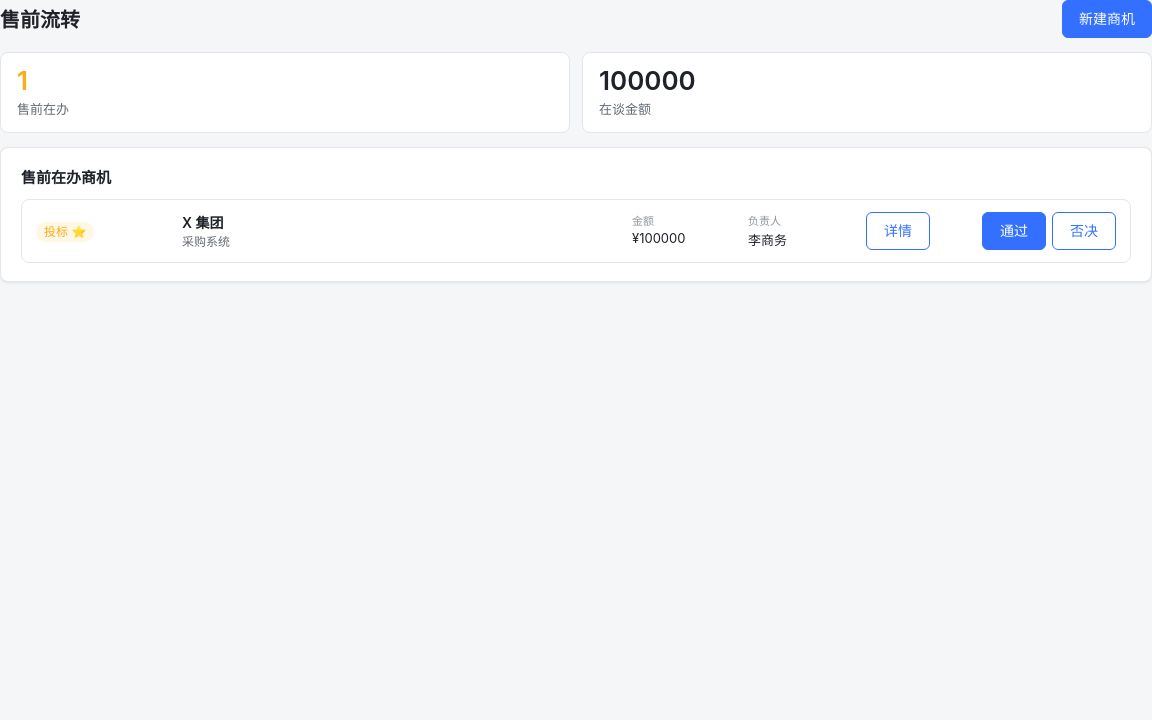
Test: PresaleFlow (售前流转 operations) › BIDDING 否决 confirms 丢单 without a supplement form (TC-FCAR-02)
The width and height of the screenshot is (1152, 720).
Click the button with test id "presale-reject-7" at (1084, 231), box [1052,212,1116,250]
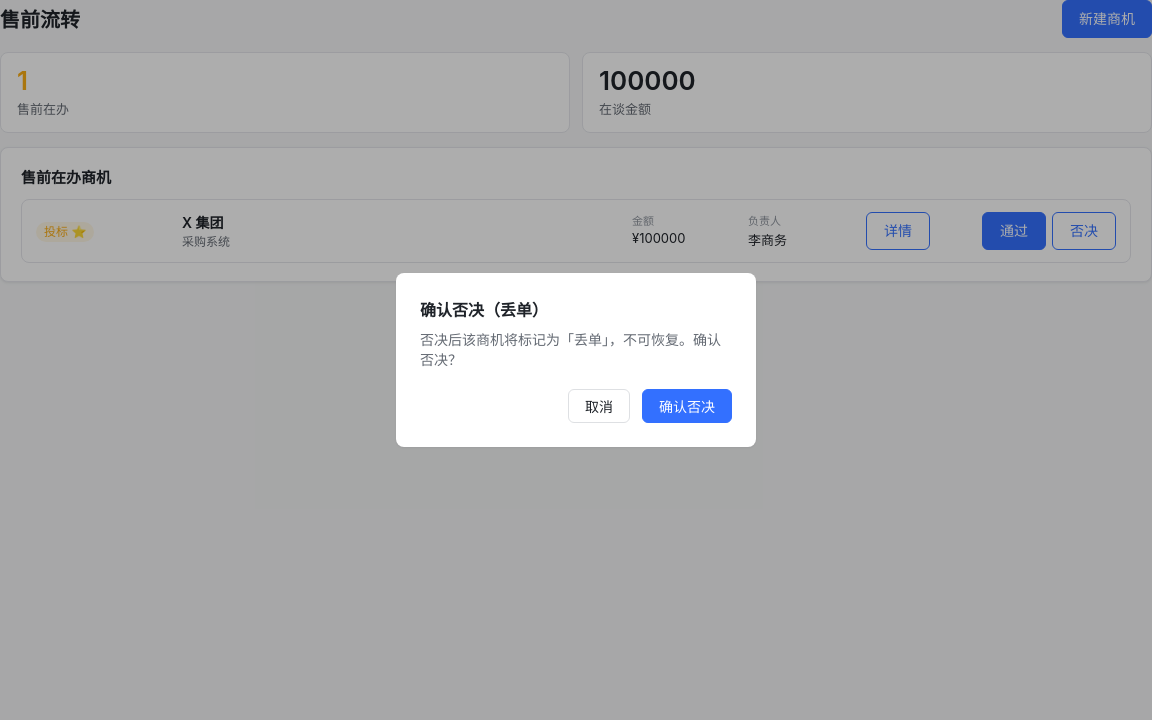
expect the text "否决后该商机将标记为「丢单」，不可恢复。确认否决？" is shown: met, box [420,329,732,369]
